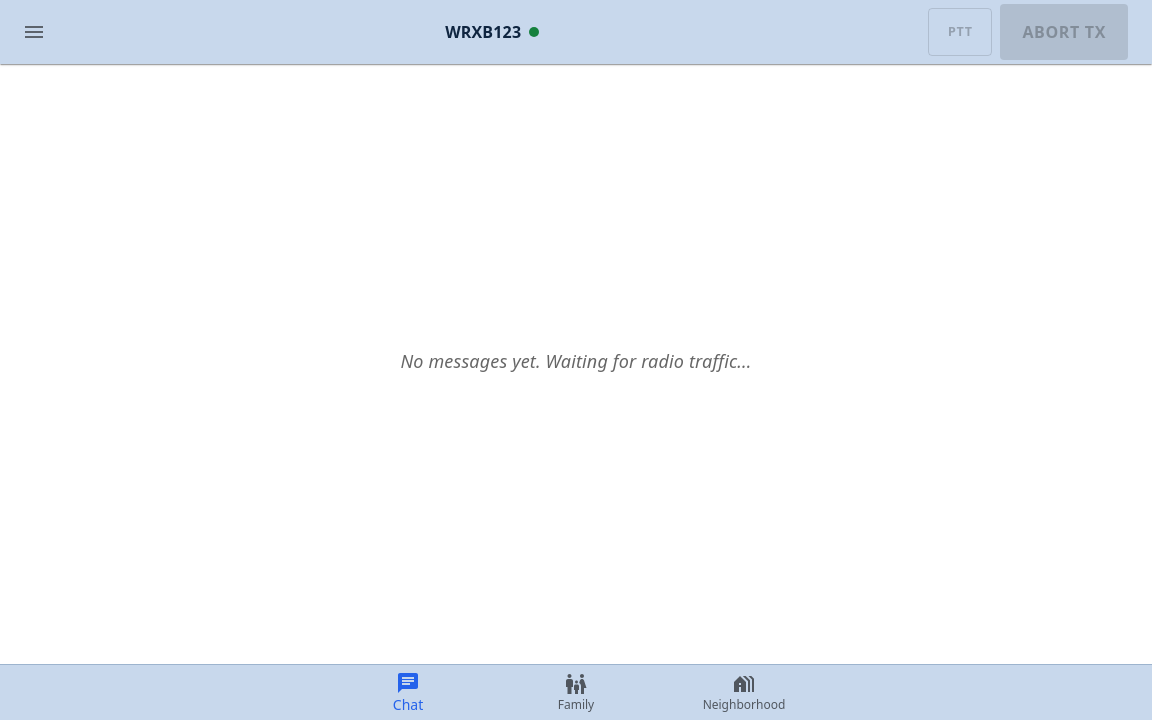
MobileApp — Neighborhood tab › renders the NeighborhoodPanel when the Neighborhood tab is tapped
This screenshot has width=1152, height=720.
Step 1. Click the button "Neighborhood" → (744, 692), box [660,665,828,719]
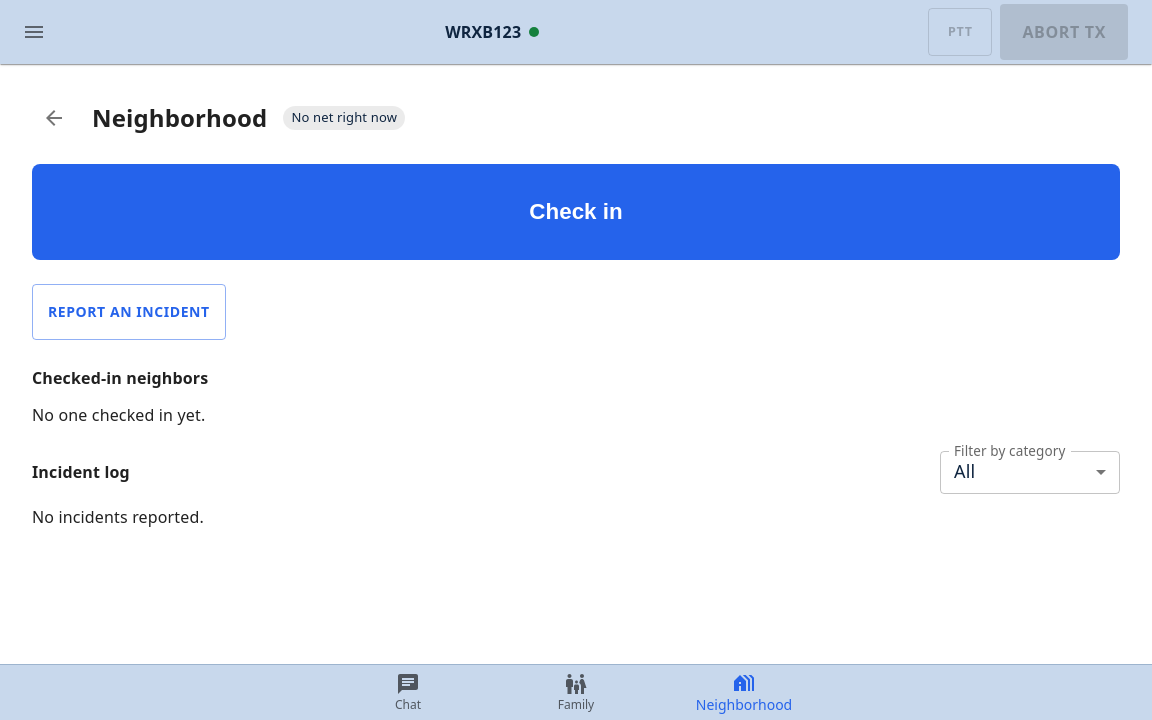
Expected: the heading "Neighborhood" is shown, [92,102,267,134]
Expected: the button "Check in" is shown, [32,164,1120,260]
